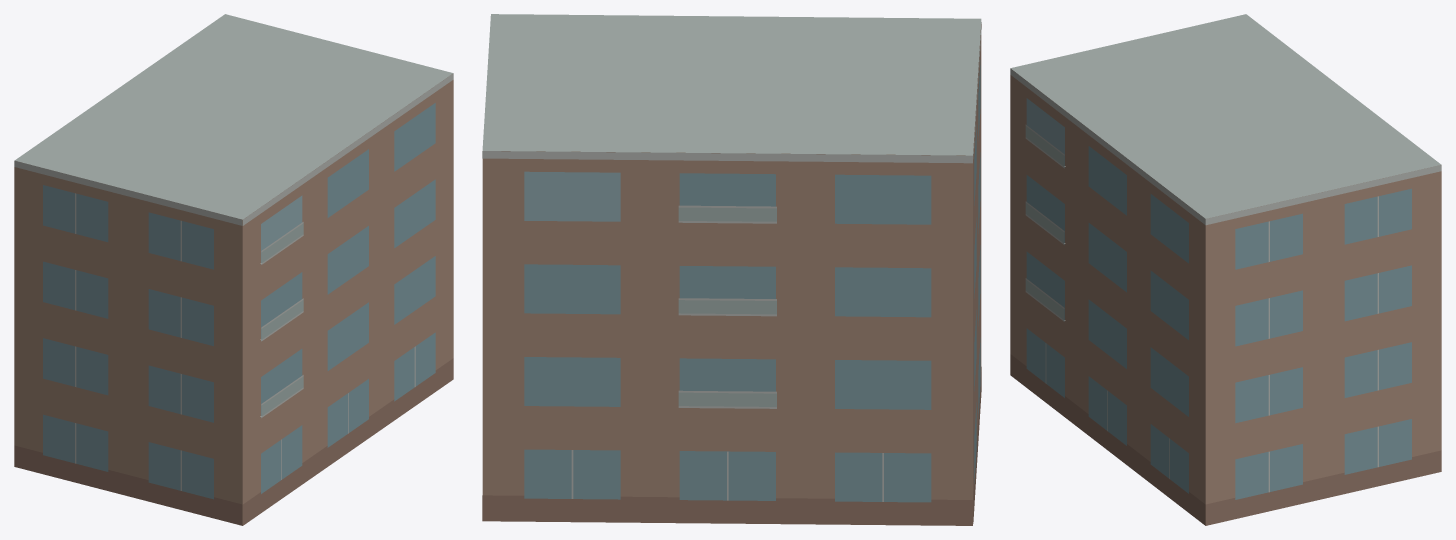
File: survey-upis-32696150.glb
3 renders of one model, left to right at view 1: azimuth 30°, elevation 25°; view 2: azimuth 150°, elevation 25°; view 3: azimuth 270°, elevation 25°, orthographic. The views are drawn at different scales.
Parts seen in each view (by area): view 1: survey-upis-32696150.tmp; view 2: survey-upis-32696150.tmp; view 3: survey-upis-32696150.tmp.
Part boxes in pixels (<box>): survey-upis-32696150.tmp: <box>14,14,453,525</box>; survey-upis-32696150.tmp: <box>482,14,981,525</box>; survey-upis-32696150.tmp: <box>1010,14,1441,525</box>.
Size of the model in its own units: 16.76 by 11.7 by 14.91.
